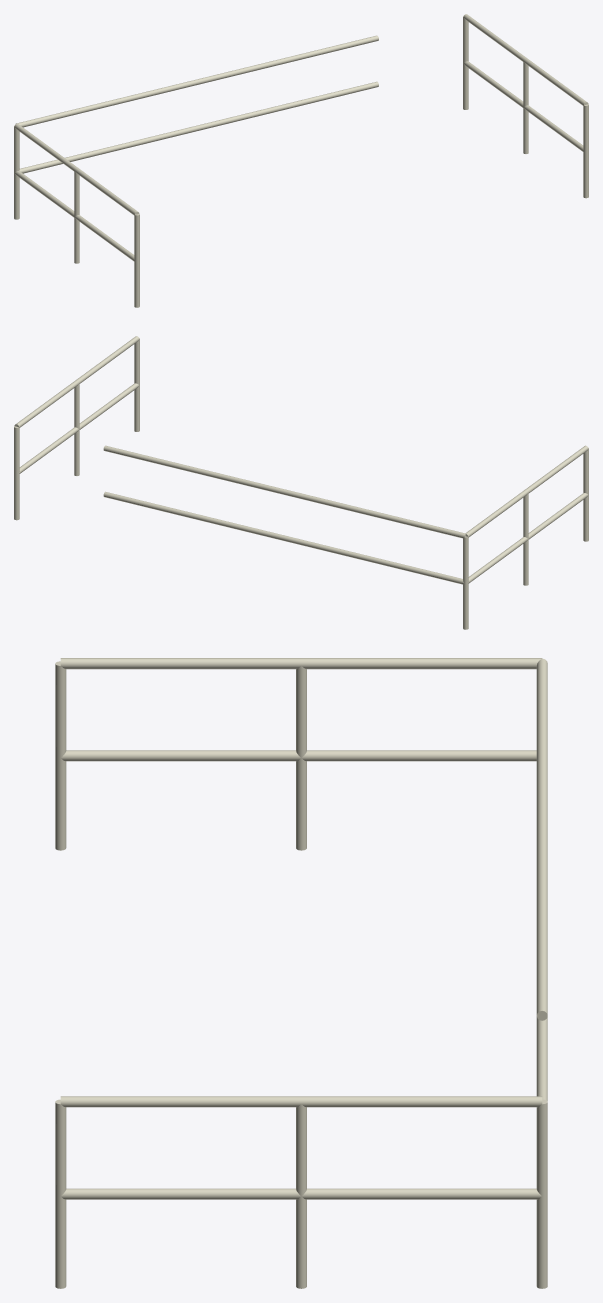
The model's file is Service_Railings.glb.
The picture shows the model from 3 angles, top to bottom: view 1: azimuth 30°, elevation 25°; view 2: azimuth 150°, elevation 25°; view 3: azimuth 270°, elevation 25°; orthographic projection. The views are drawn at different scales.
Visible parts, largest first — view 1: Service_Railings; view 2: Service_Railings; view 3: Service_Railings.
Boxes of the visible parts, box(x1,y1,x2,y2) form: Service_Railings: box(14, 14, 588, 307); Service_Railings: box(14, 336, 588, 629); Service_Railings: box(55, 658, 547, 1288).
Size of the model in its own units: 5.66 by 1.13 by 2.66.
